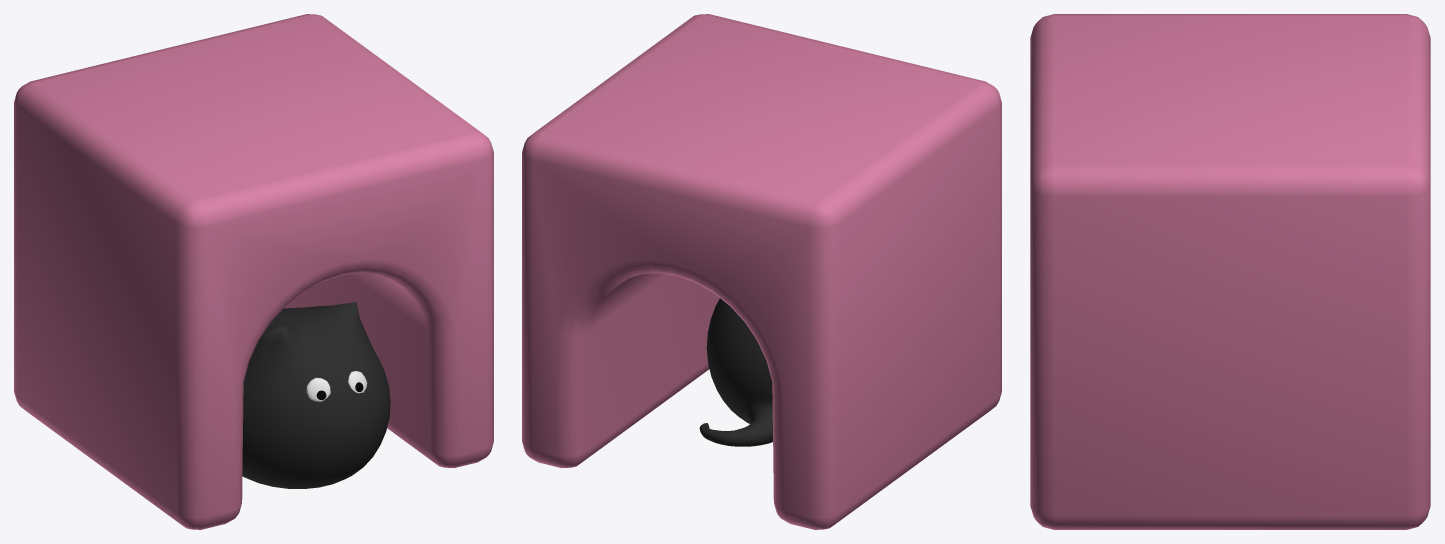
File: house_with_cat.glb
The picture shows the model from 3 angles, left to right: view 1: azimuth 30°, elevation 25°; view 2: azimuth 150°, elevation 25°; view 3: azimuth 270°, elevation 25°; orthographic projection. The views are drawn at different scales.
Visible parts, largest first — view 1: Cube.001, Icosphere; view 2: Cube.001, Icosphere; view 3: Cube.001.
Boxes of the visible parts, x1,y1,x2,y2 form: Cube.001: (14, 14, 493, 529); Icosphere: (242, 302, 390, 488); Cube.001: (522, 14, 1001, 529); Icosphere: (699, 298, 772, 446); Cube.001: (1030, 14, 1430, 529).
Size of the model in its own units: 1 by 1.02 by 1.
